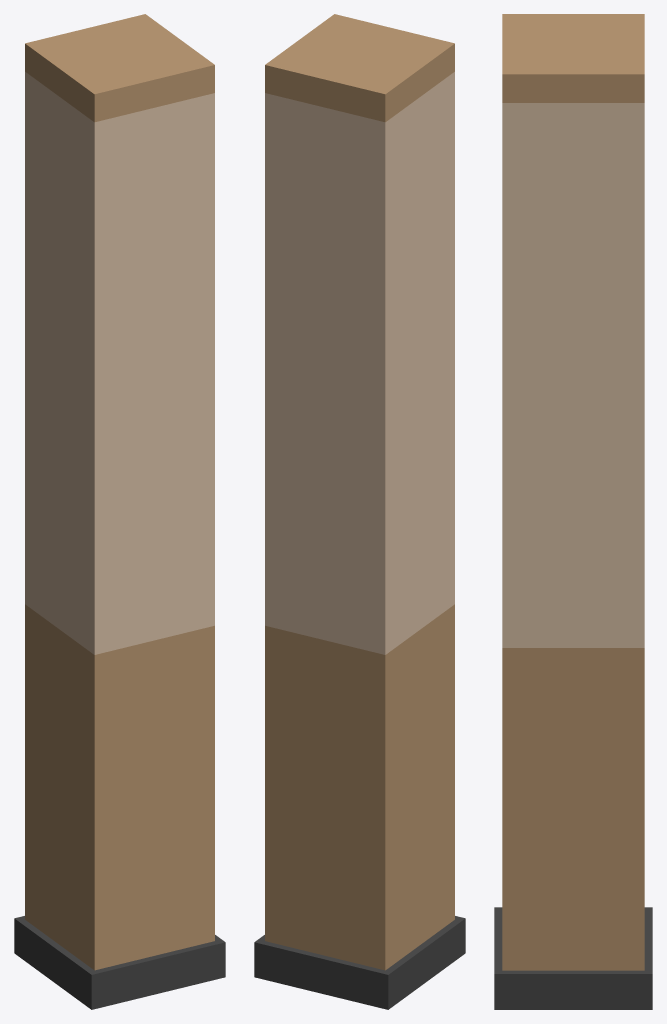
Rendered from column_02.dae.
3 renders of one model, left to right at view 1: azimuth 30°, elevation 25°; view 2: azimuth 150°, elevation 25°; view 3: azimuth 270°, elevation 25°, orthographic. The views are drawn at different scales.
Parts seen in each view (by area): view 1: Untitled; view 2: Untitled; view 3: Untitled.
Boxes of the visible parts, left/top/right/bottom form: Untitled: left=14, top=14, right=225, bottom=1009; Untitled: left=254, top=14, right=465, bottom=1009; Untitled: left=494, top=14, right=652, bottom=1009.
Size of the model in its own units: 0.6 by 0.6 by 3.9.
Materials: 1 (1 with a texture image).
